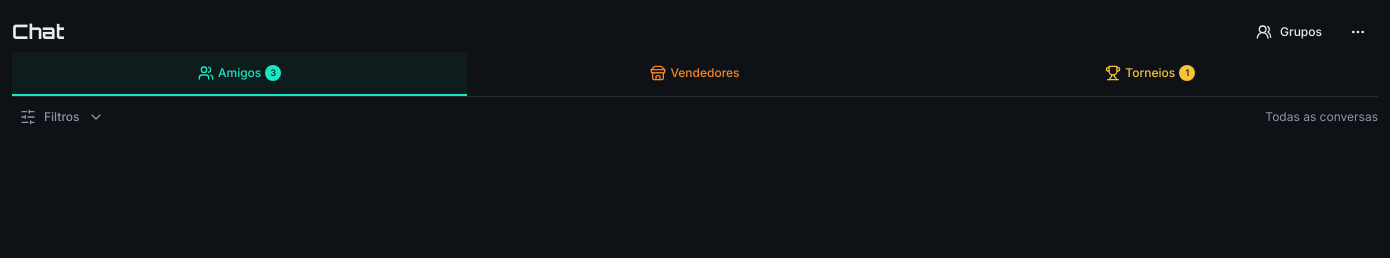
Scenario: Controles do chat móvel › abre todas as opções e recolhe após escolher
The width and height of the screenshot is (1390, 258).
Click the button "Filtros": (62, 117) [12, 97, 112, 137]
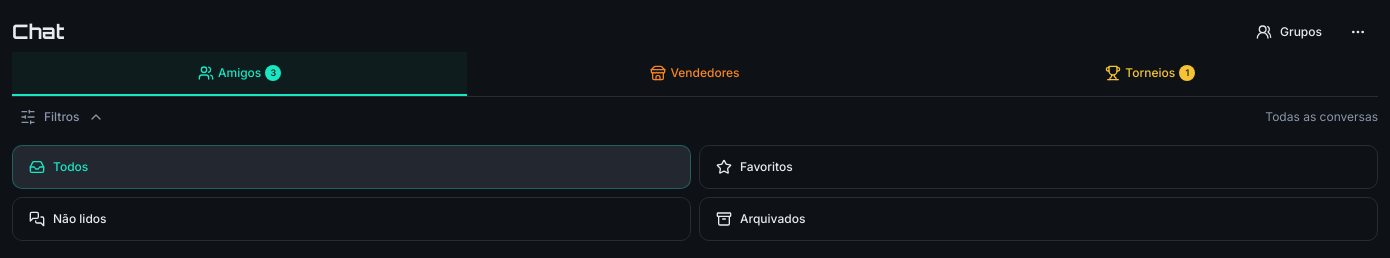
Check: the button "Todos" is shown, box [12, 145, 691, 189]
Check: the button "Favoritos" is shown
Check: the button "Não lidos" is shown, box [12, 197, 691, 241]
Click the button "Favoritos": (766, 166) [699, 145, 1378, 189]
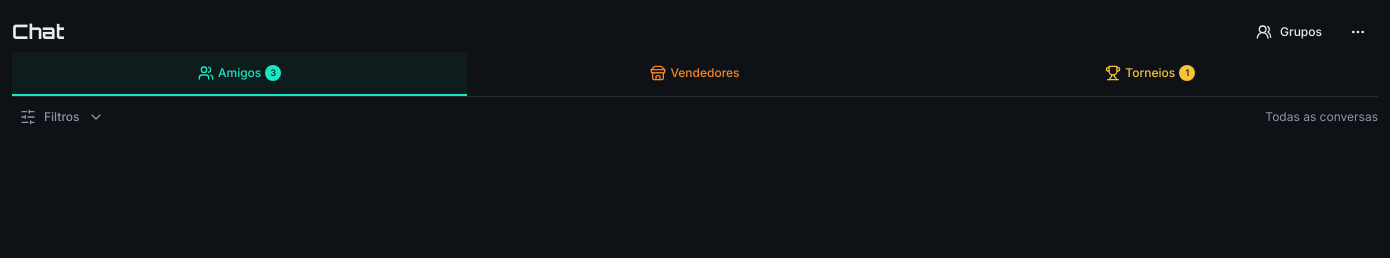
Check: the button "Filtros" is collapsed, box [12, 97, 112, 137]
